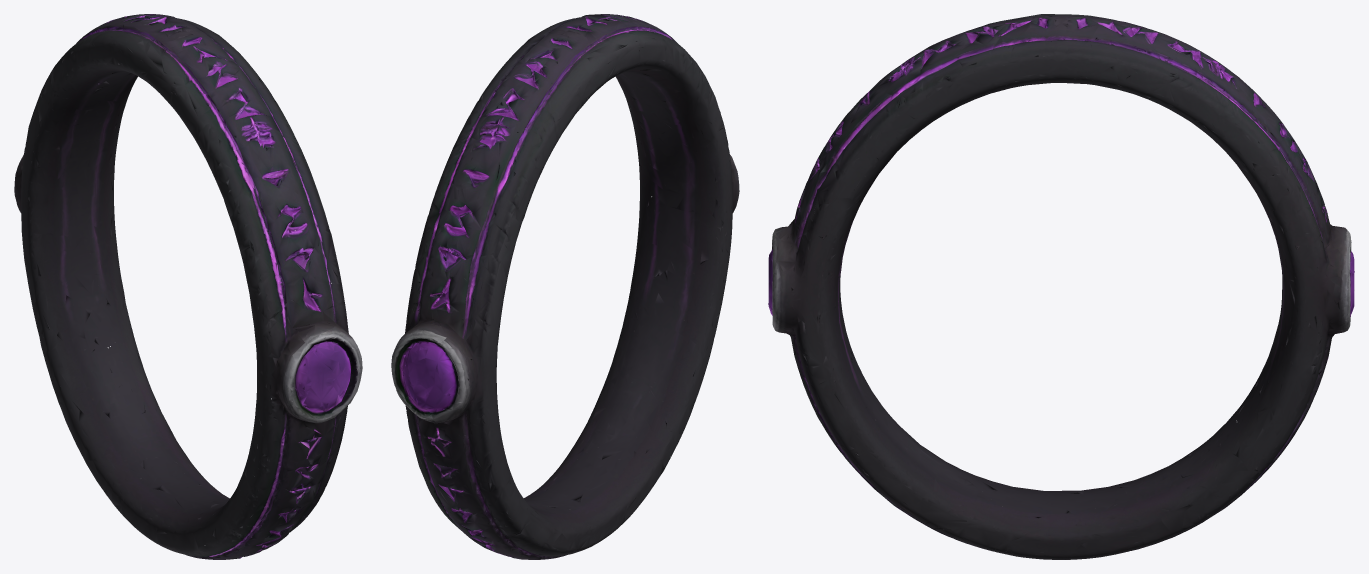
The model's file is eq_ring2.glb.
3 views of the same model, side by side, from view 1: azimuth 30°, elevation 25°; view 2: azimuth 150°, elevation 25°; view 3: azimuth 270°, elevation 25° (orthographic). The views are drawn at different scales.
Parts seen in each view (by area): view 1: tripo_node_422ad13a-edf0-49c9-8fb2-0967593fa00b; view 2: tripo_node_422ad13a-edf0-49c9-8fb2-0967593fa00b; view 3: tripo_node_422ad13a-edf0-49c9-8fb2-0967593fa00b.
Boxes of the visible parts, x1,y1,x2,y2 form: tripo_node_422ad13a-edf0-49c9-8fb2-0967593fa00b: (14,14,362,559); tripo_node_422ad13a-edf0-49c9-8fb2-0967593fa00b: (391,14,739,559); tripo_node_422ad13a-edf0-49c9-8fb2-0967593fa00b: (768,14,1354,559).
Bounding box in the file's own units: 0.0098 × 0.055 × 0.0549.
1 material, 1 textured.
